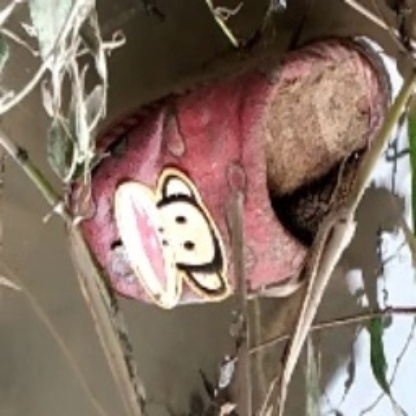plastic-garbage: (70, 37, 393, 316)
